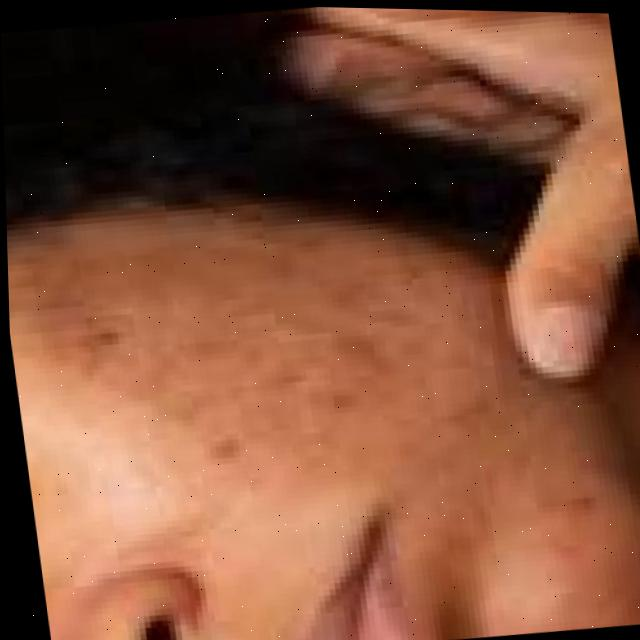Melasma: (6, 198, 496, 508)
